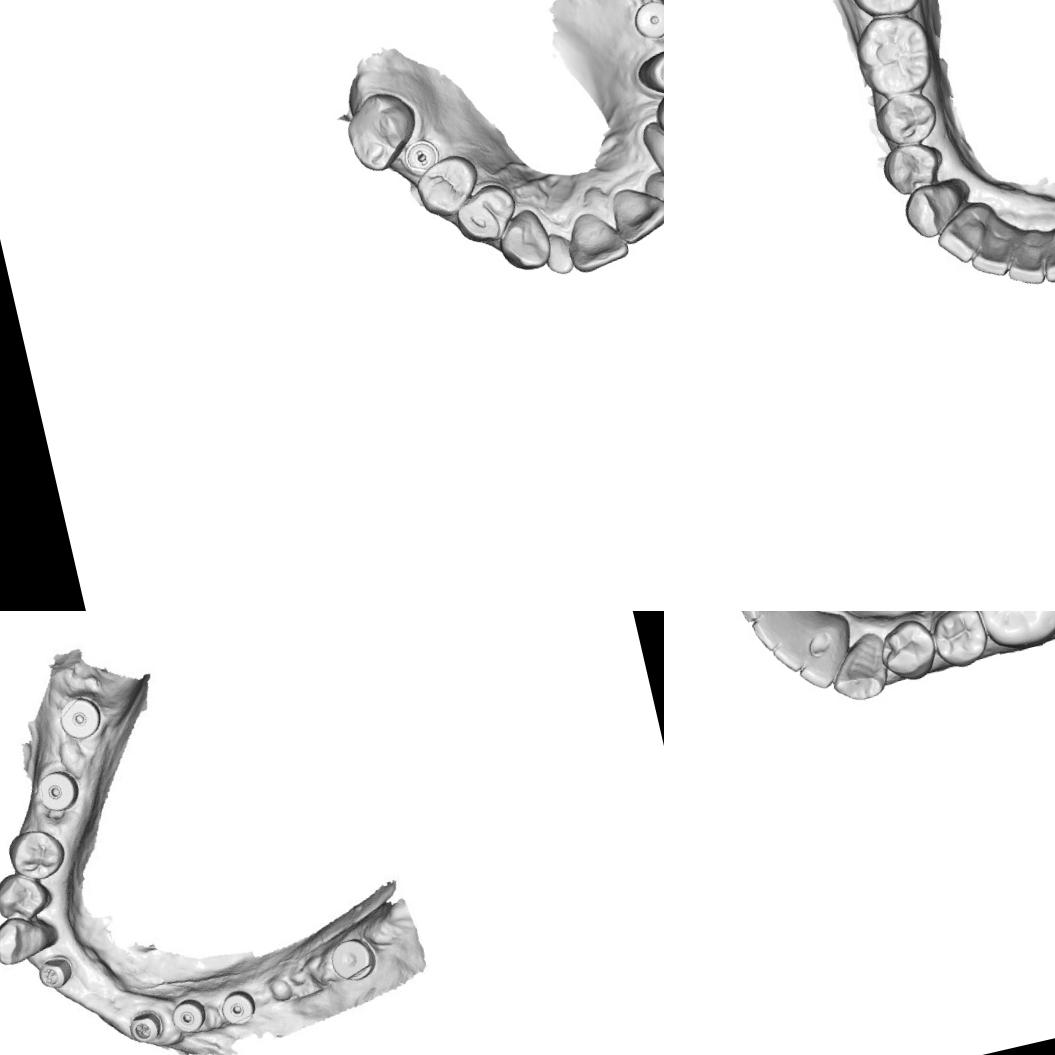canine: (821, 630, 896, 710), (900, 175, 979, 242), (492, 204, 556, 278), (0, 908, 64, 974), (637, 111, 664, 196)
implant: (325, 927, 381, 985), (53, 691, 112, 746), (35, 952, 81, 1000), (35, 766, 80, 815), (214, 989, 257, 1029), (123, 1008, 164, 1049), (629, 0, 664, 45), (170, 996, 208, 1037)
implant_minus: (398, 132, 447, 184)
incisor: (763, 611, 861, 674), (560, 205, 632, 276), (745, 611, 852, 651), (607, 179, 664, 249), (792, 638, 860, 696), (968, 227, 1022, 282), (934, 213, 989, 266), (1005, 234, 1053, 288), (540, 230, 579, 278), (731, 611, 809, 626), (1038, 221, 1055, 283), (639, 166, 664, 208)
molar: (850, 6, 940, 102), (339, 86, 426, 178), (969, 611, 1055, 654), (839, 0, 930, 26)
premolar: (410, 150, 486, 222), (450, 179, 524, 250), (874, 614, 942, 686), (924, 611, 995, 672), (872, 90, 942, 151), (879, 138, 948, 198), (8, 826, 68, 883), (0, 867, 51, 924), (632, 39, 664, 107)
